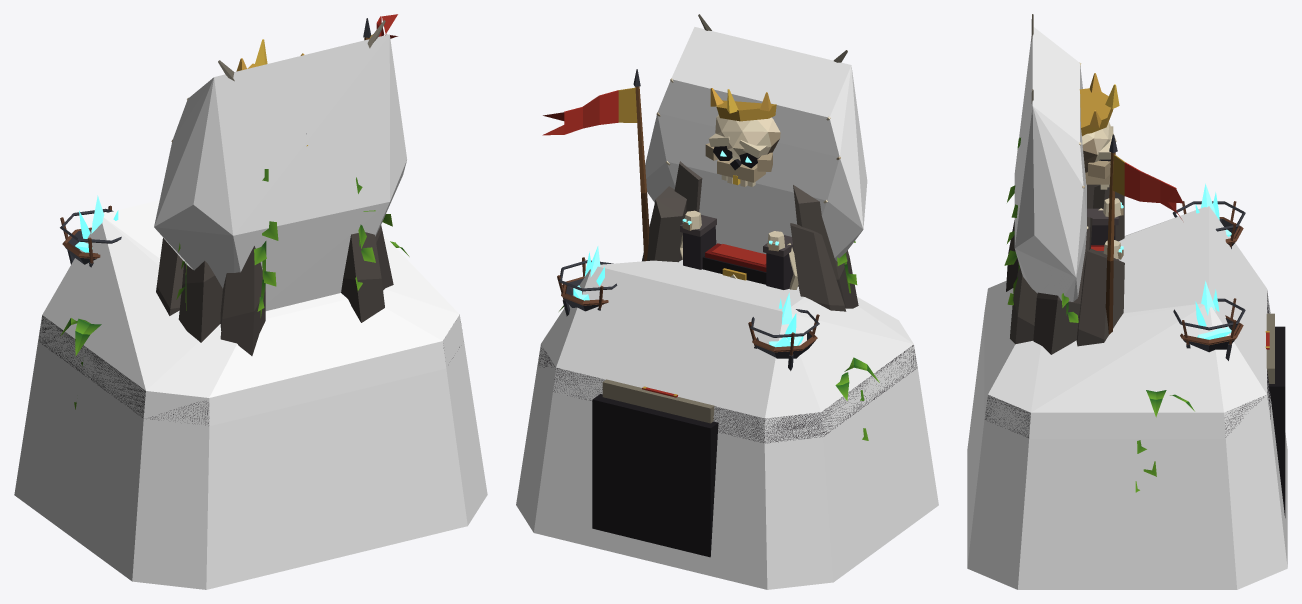
Rendered from cursed_skeleton_throne_shrine.glb.
3 views of the same model, side by side, from view 1: azimuth 30°, elevation 25°; view 2: azimuth 150°, elevation 25°; view 3: azimuth 270°, elevation 25° (orthographic). The views are drawn at different scales.
Parts seen in each view (by area): view 1: col_throne_dais, col_throne_back, CursedSkeletonThroneShrine; view 2: col_throne_dais, CursedSkeletonThroneShrine, col_throne_back; view 3: col_throne_dais, CursedSkeletonThroneShrine, col_throne_back.
Boxes of the visible parts, x1=… form: col_throne_dais: x1=14, y1=200, x2=487, y2=589; col_throne_back: x1=154, y1=34, x2=407, y2=310; CursedSkeletonThroneShrine: x1=38, y1=14, x2=459, y2=425; col_throne_dais: x1=516, y1=260, x2=938, y2=589; CursedSkeletonThroneShrine: x1=538, y1=14, x2=917, y2=557; col_throne_back: x1=645, y1=27, x2=867, y2=260; col_throne_dais: x1=967, y1=206, x2=1287, y2=589; CursedSkeletonThroneShrine: x1=985, y1=14, x2=1285, y2=517; col_throne_back: x1=1014, y1=27, x2=1086, y2=301.
Size of the model in its own units: 8.7 by 11.52 by 7.3.
